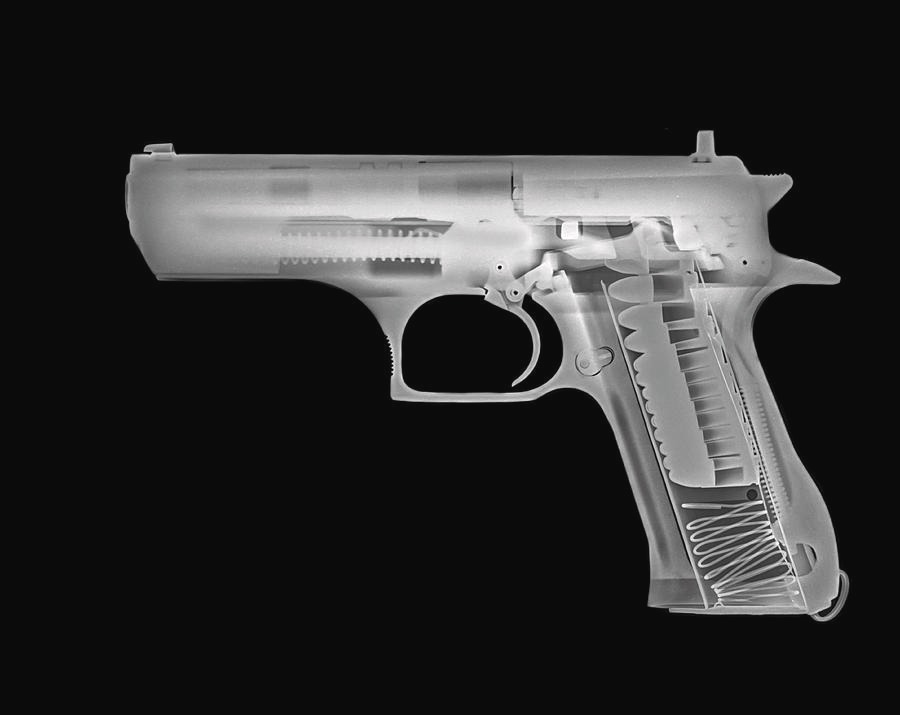gun: (116, 120, 848, 624)
